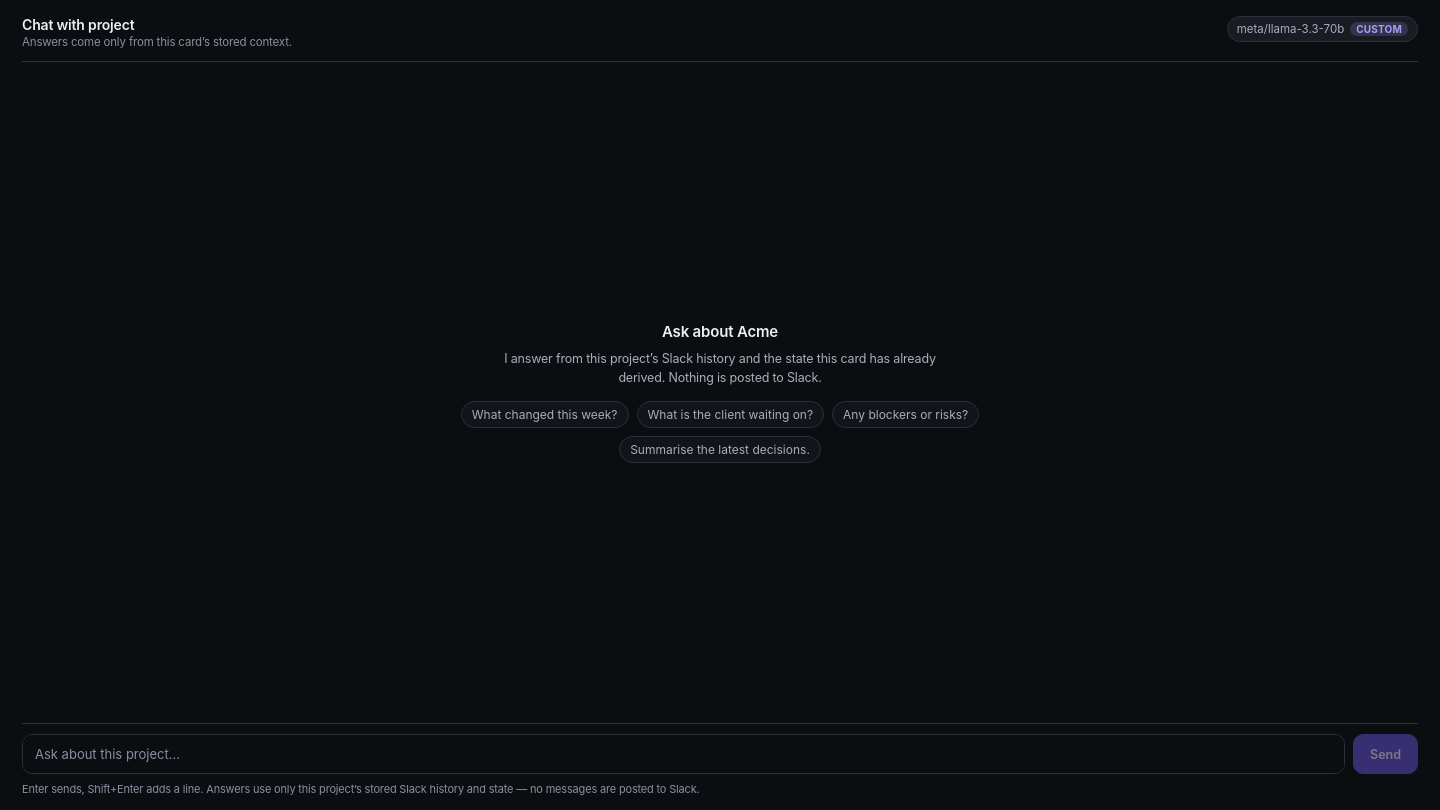
AgentChatPanel › ignores events tagged for another project or run
Expected: the text "Ask about Acme" is shown, [662,322,778,341]
Type "What changed?" into the text box labelled "Ask about this project" at (684, 754), box [22,734,1345,774]
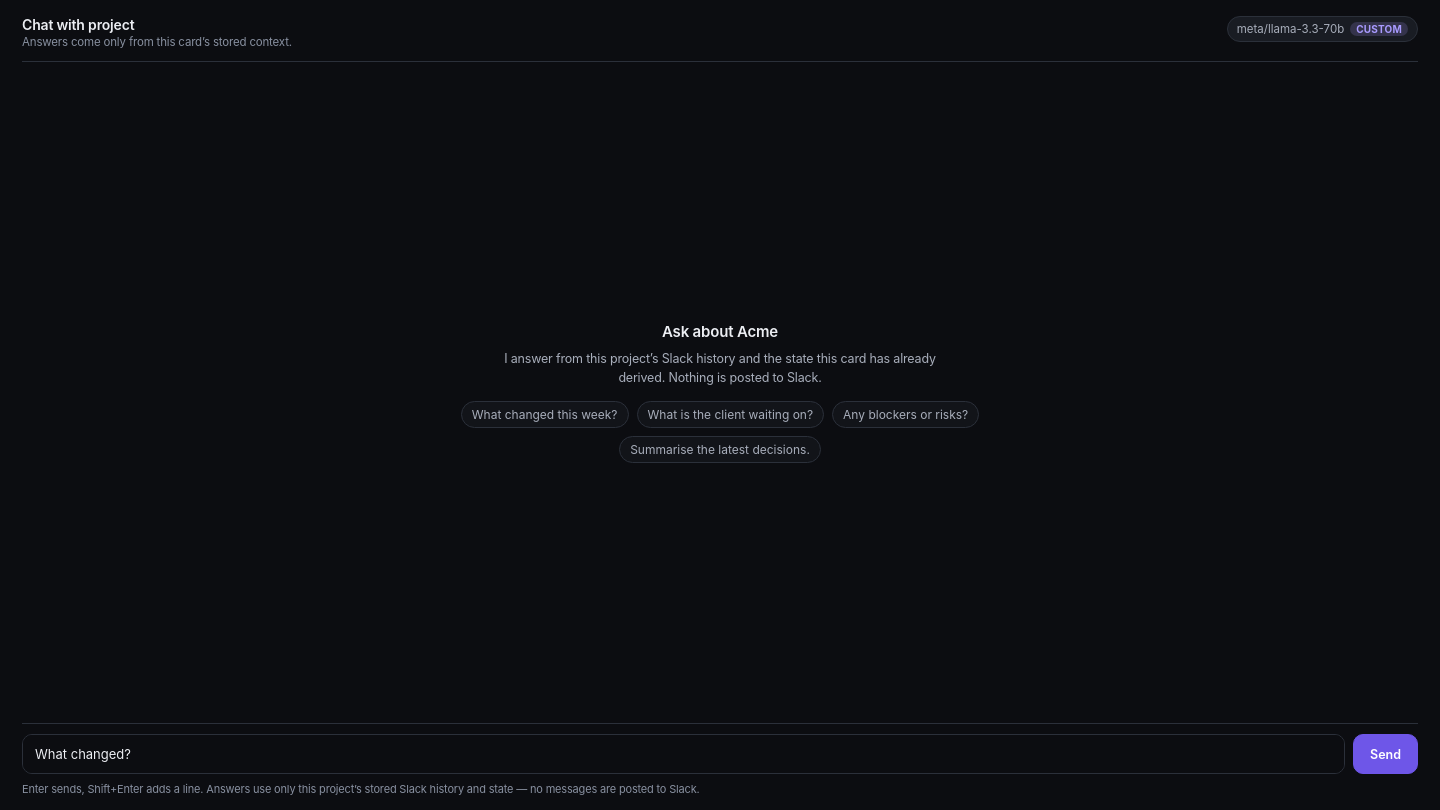
Click the button "Send" at (1386, 754), box [1353,734,1418,774]
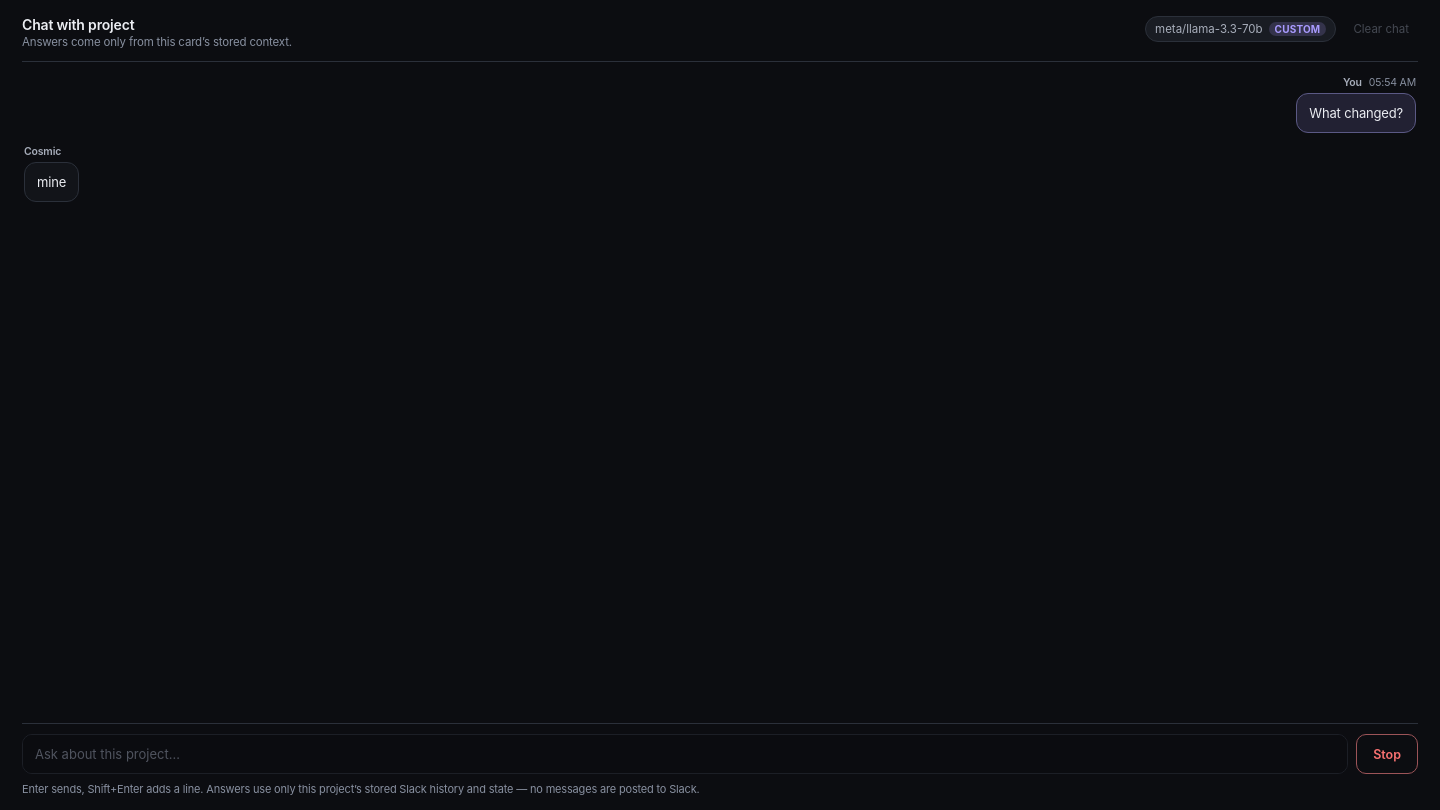
Expected: the text "mine" is shown, [37,172,66,192]
Expected: the button "Stop" is shown, [1356,734,1418,774]
